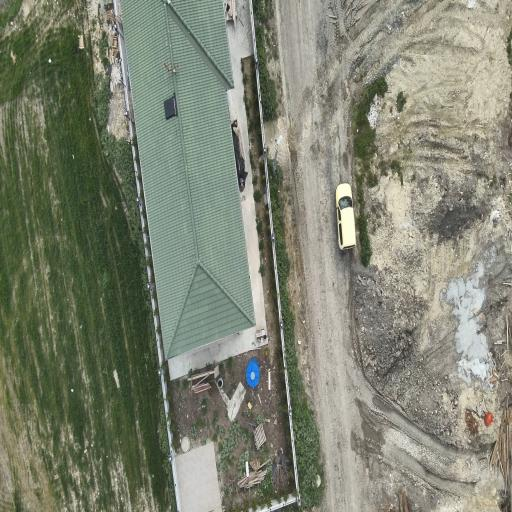car: (336, 184, 355, 249)
